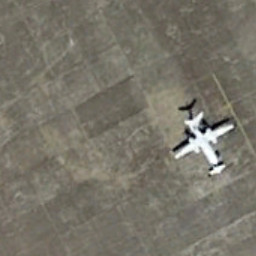Airplane: (160, 100, 242, 185)
